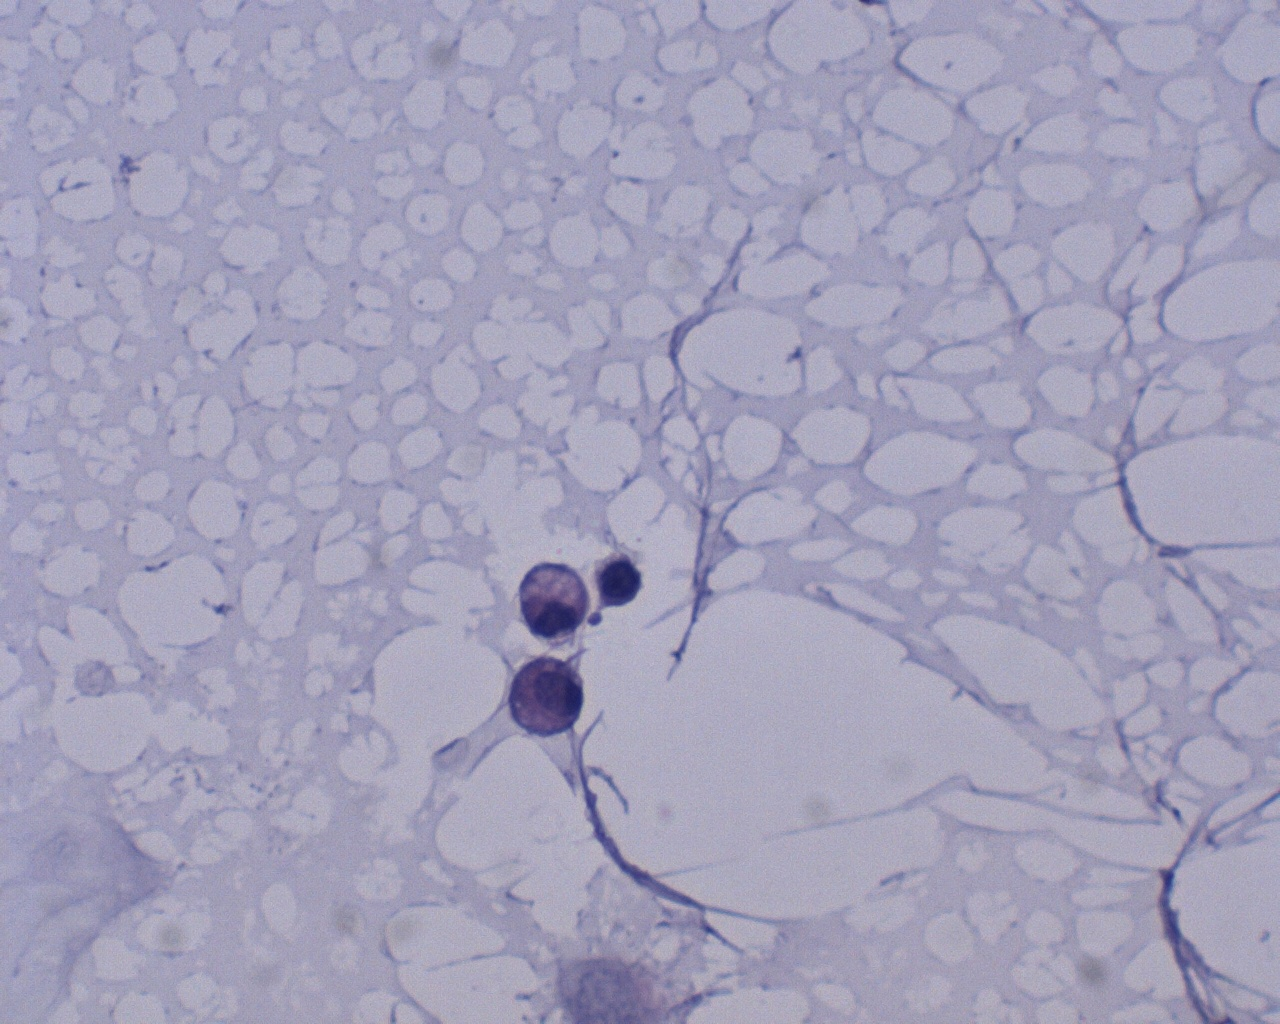histo: (498, 554, 595, 645)
meso: (504, 652, 589, 740)
